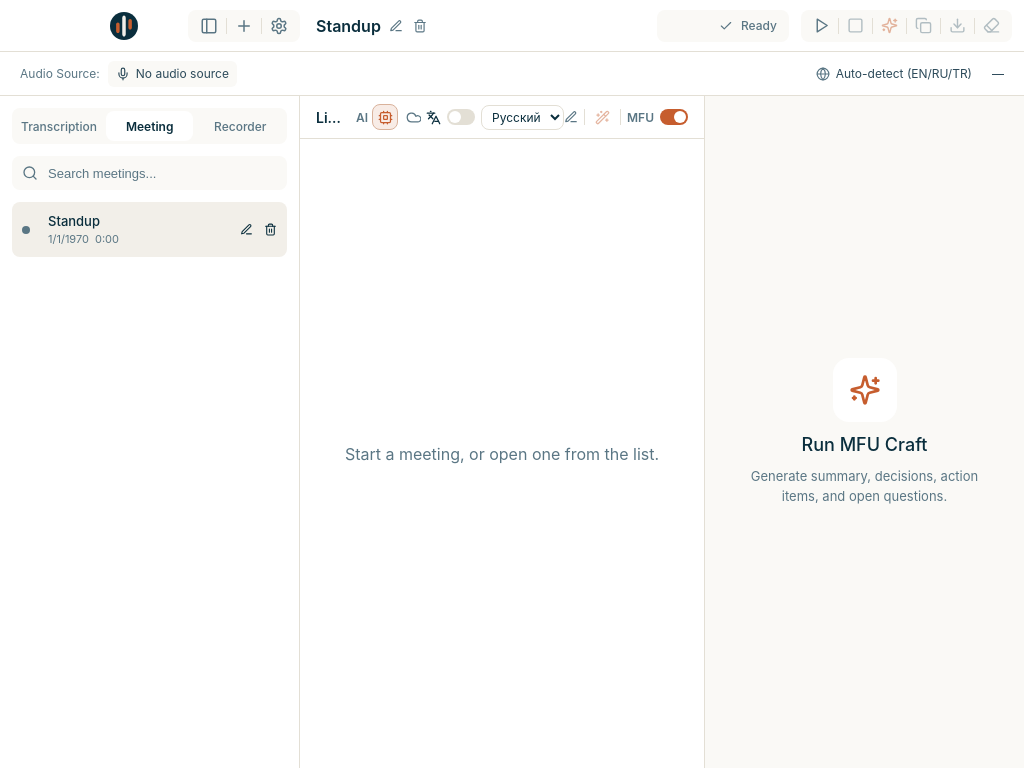
Test: StreamingView — mfu › Craft / MFU › disables Craft with no decoded text, enables it once a stopped session has text
The width and height of the screenshot is (1024, 768).
Click the text "Standup" at (74,221), box [48,213,100,229]
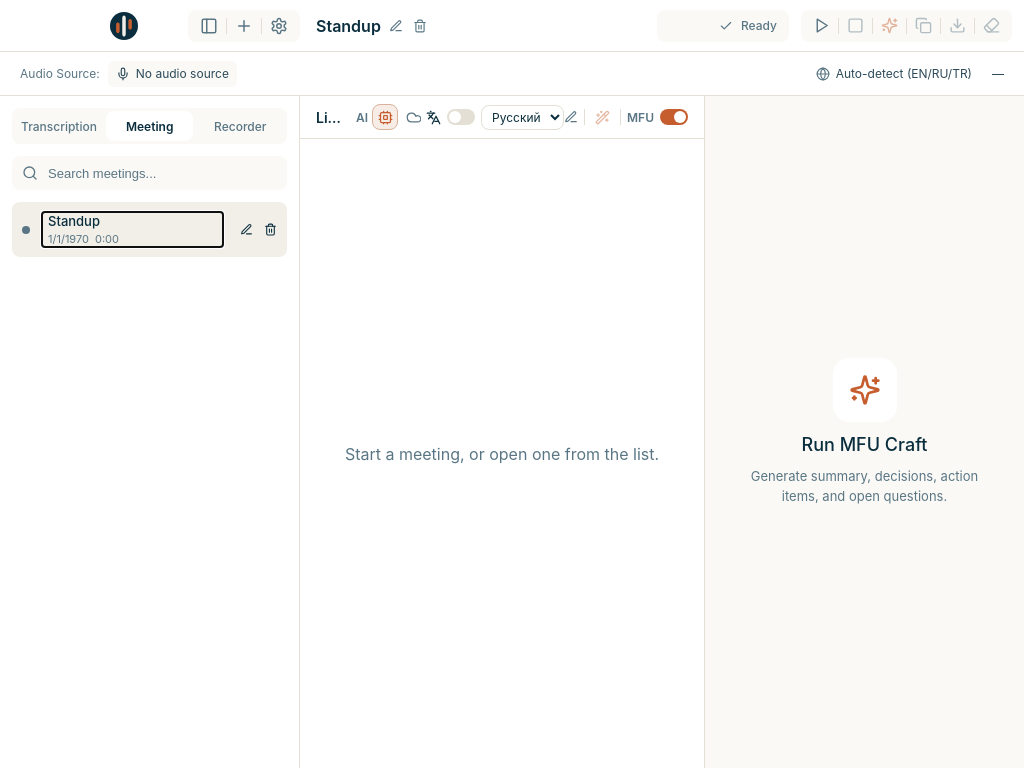
Expected: the button named "Craft MFU" is disabled, [877,13,902,38]
Click the button with aria-label "Open Standup" at (132,230), box [42,212,223,247]
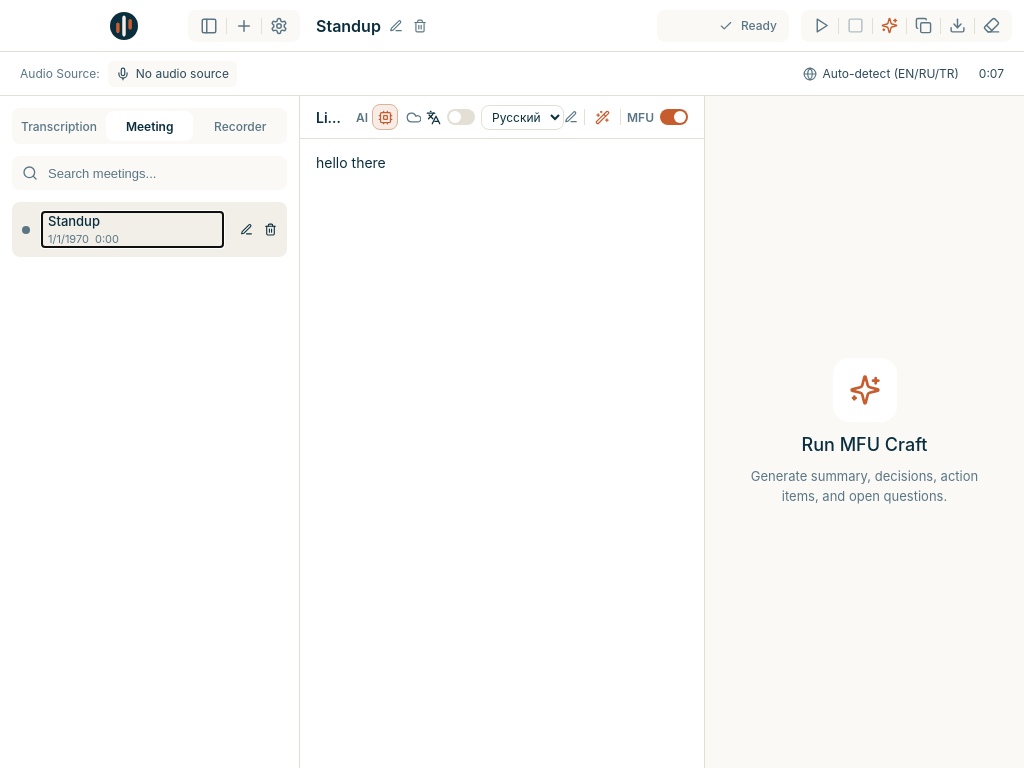
Result: the button named "Craft MFU" is enabled at [877,13,902,38]
